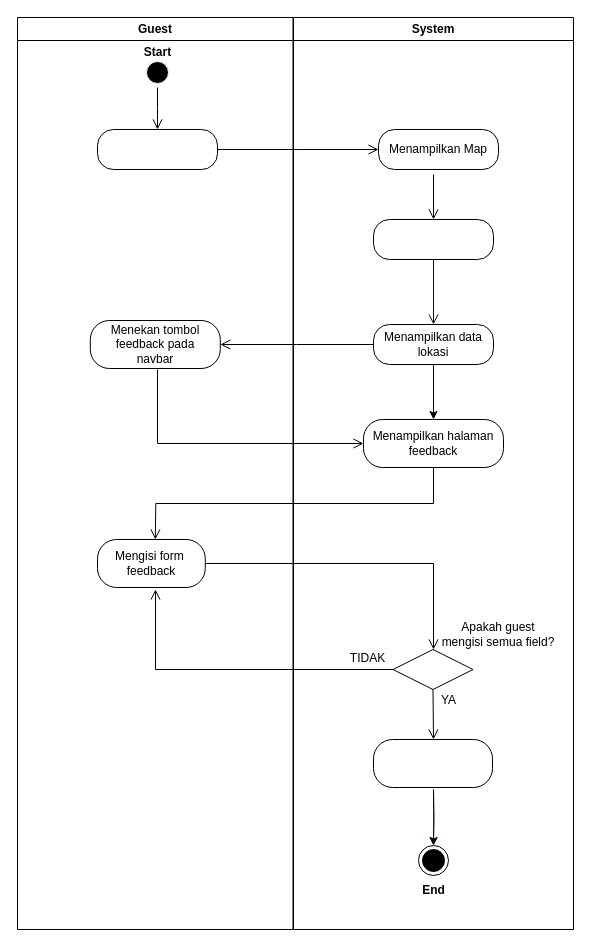
The diagram is 591 pixels wide and 947 high, and some of its shapes have lost their labels. The centre of each missing label's shape, as x and y in pixels:
"Memasuki website" goes at pixel 157 149.
"Memasukkan data feedback ke database" goes at pixel 432 763.
"Memuat data lokasi dari API" goes at pixel 433 239.
